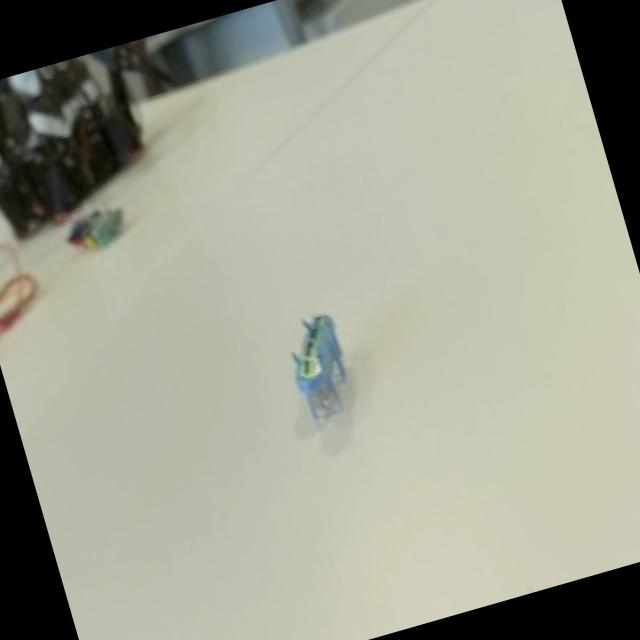3_NanoBug_Celeste: (248, 280, 402, 486)
